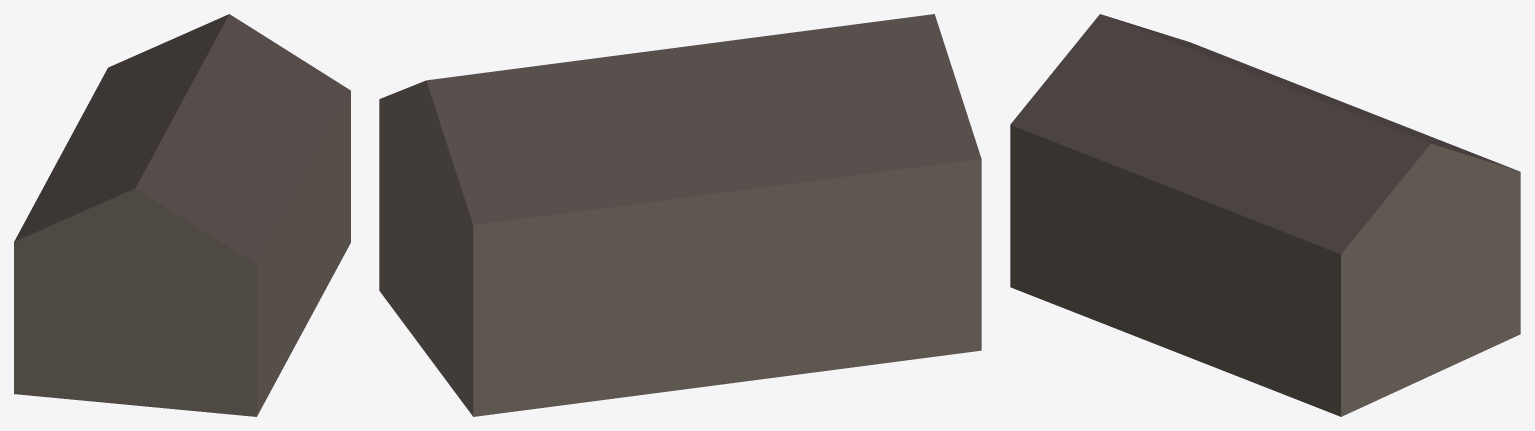
3 views of the same model, side by side, from view 1: azimuth 30°, elevation 25°; view 2: azimuth 150°, elevation 25°; view 3: azimuth 270°, elevation 25° (orthographic). The views are drawn at different scales.
Visible parts, largest first — view 1: HP-w745277159; view 2: HP-w745277159; view 3: HP-w745277159.
Boxes of the visible parts, <box> form: HP-w745277159: <box>14,14,350,416</box>; HP-w745277159: <box>379,14,981,416</box>; HP-w745277159: <box>1010,14,1520,416</box>.
Bounding box in the file's own units: 25.22 × 12.85 × 25.62.
